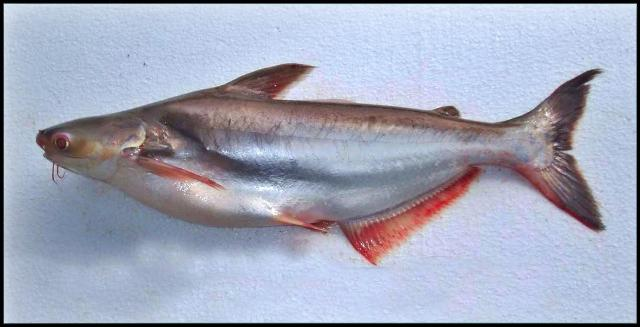Mulut: (18, 113, 88, 188)
Sirip Anal: (334, 162, 494, 274)
Sirip Dada: (122, 138, 234, 206)
Sirip Ekor: (506, 58, 622, 240)
Sirip Perut: (264, 200, 344, 252)
Sirip Punggung: (215, 51, 328, 109)
